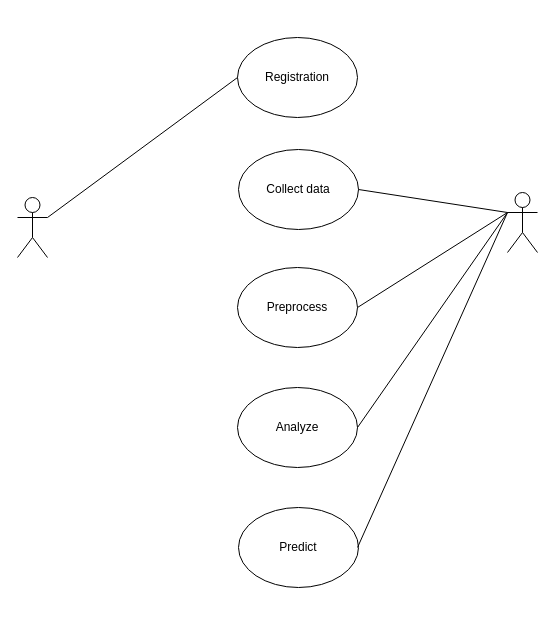
Image size: 557x635. Some labels were removed from this diagram. The shapes that lost their labels are listed below. From the top down, each one's centre as x and y in pixels, then its label:
the point at 32,227: User
the point at 522,222: Server
